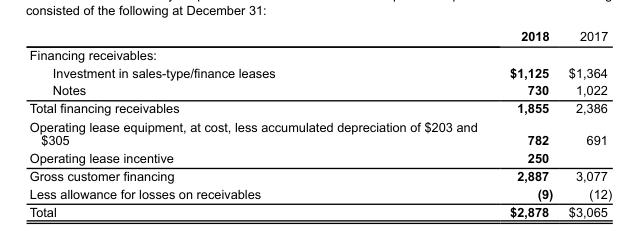table: (28, 28, 611, 218)
table column: (28, 28, 492, 218), (492, 28, 560, 218), (560, 28, 611, 218)
table column header: (28, 28, 611, 45)
table projected row header: (28, 45, 611, 63)
table row: (28, 117, 611, 148), (28, 98, 611, 117), (28, 45, 611, 63), (28, 63, 611, 81), (28, 148, 611, 166), (28, 166, 611, 184), (28, 184, 611, 202), (28, 28, 611, 45), (28, 81, 611, 98), (28, 202, 611, 218)
